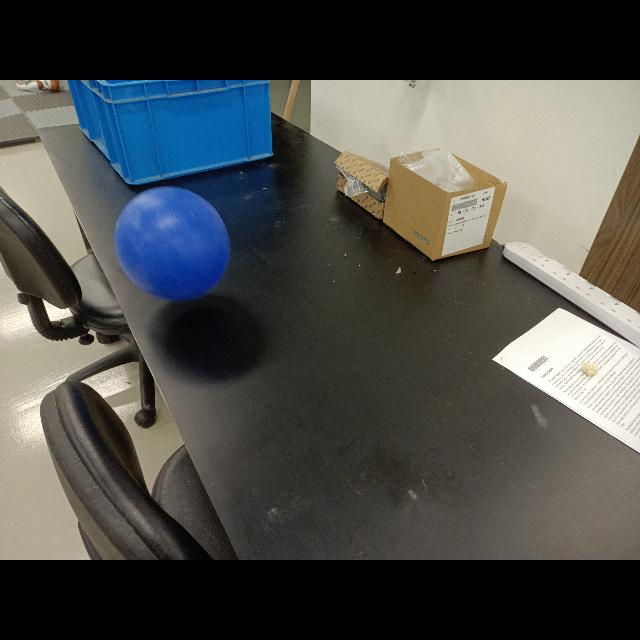B: (114, 182, 234, 306)
